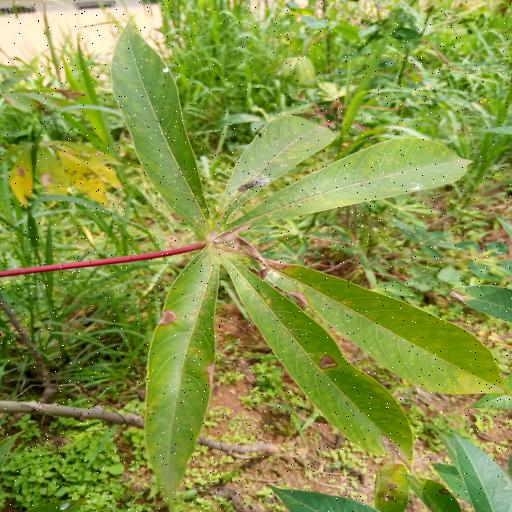Cassava_Brown_Leaf_Spot: (107, 16, 512, 500)
